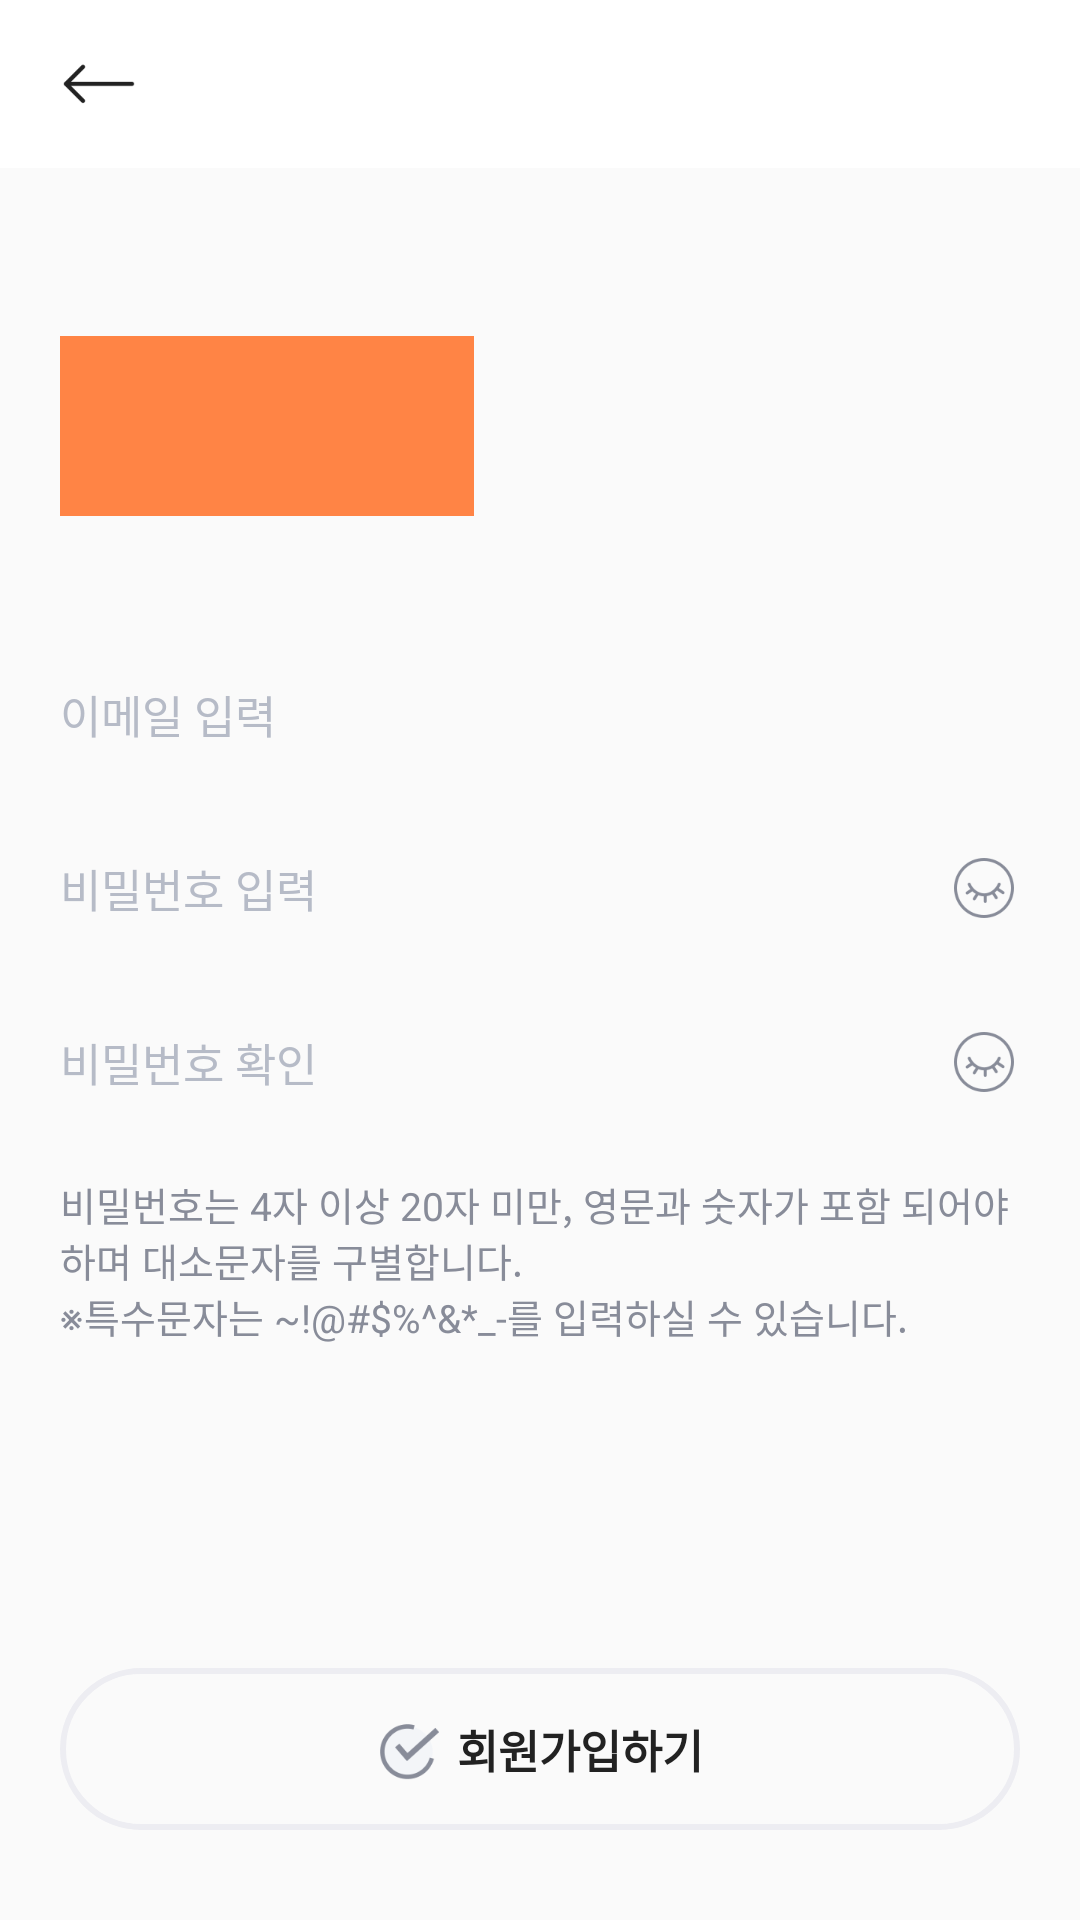

Locate icon controls on the screen. Image size 1080 x 1920, boxes as {"left": x1, "top": y1, "right": x2, "bottom": y2}.
arrow left: {"left": 63, "top": 64, "right": 135, "bottom": 103}
check off: {"left": 380, "top": 1724, "right": 439, "bottom": 1779}
hide on: {"left": 954, "top": 858, "right": 1014, "bottom": 918}, {"left": 954, "top": 1032, "right": 1014, "bottom": 1092}
